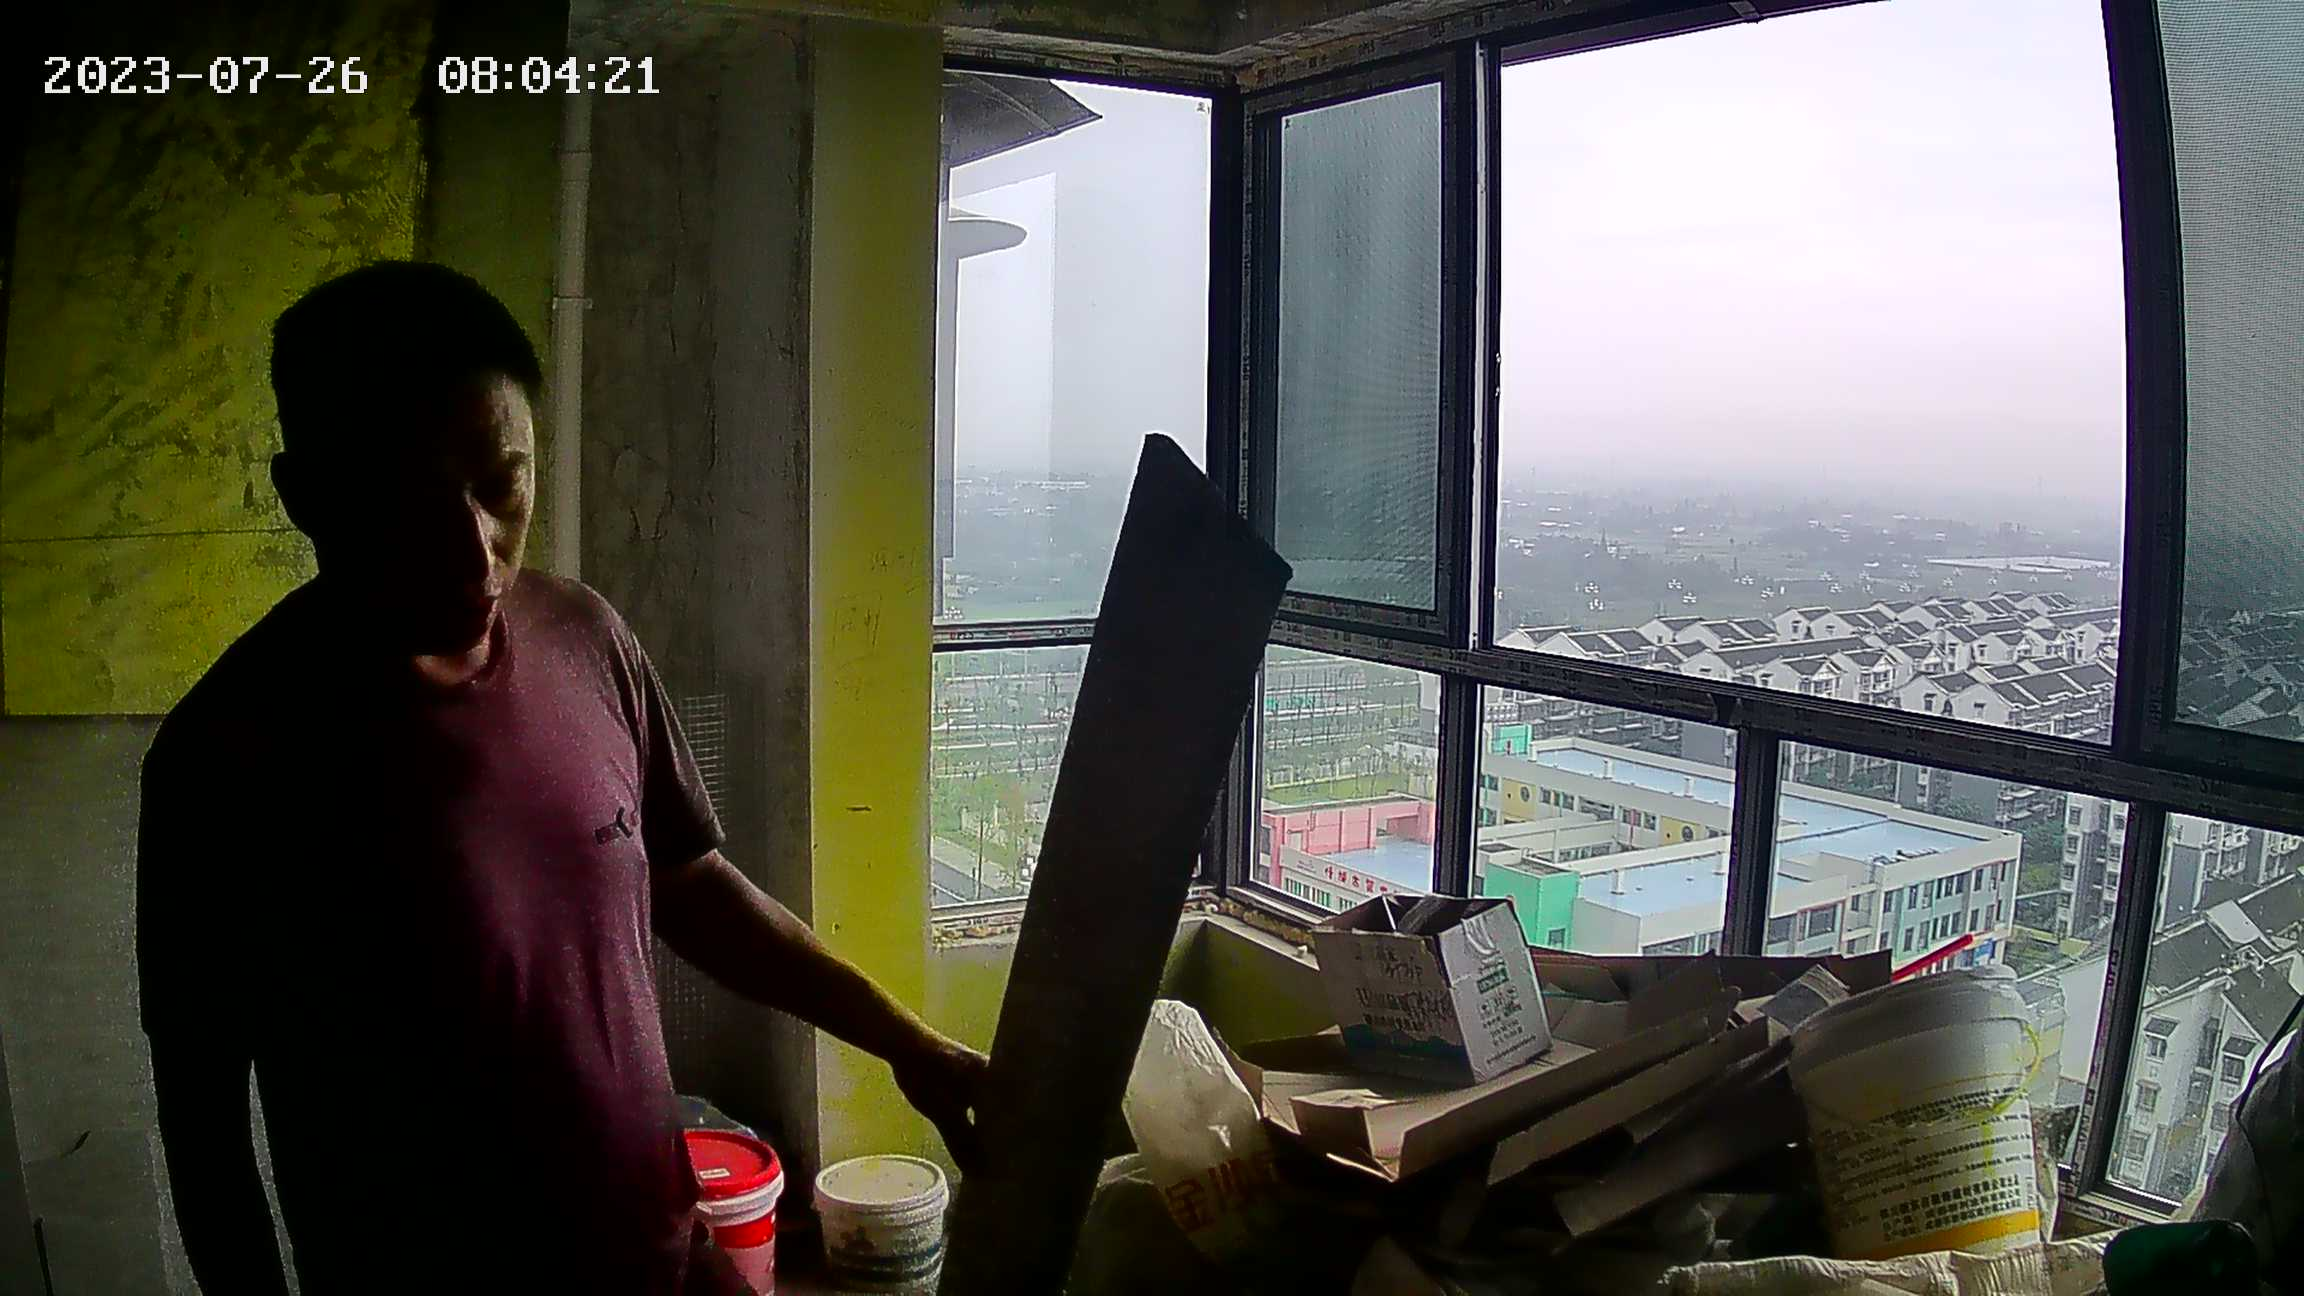people: (84, 242, 984, 1296)
window: (937, 25, 2175, 1162)
